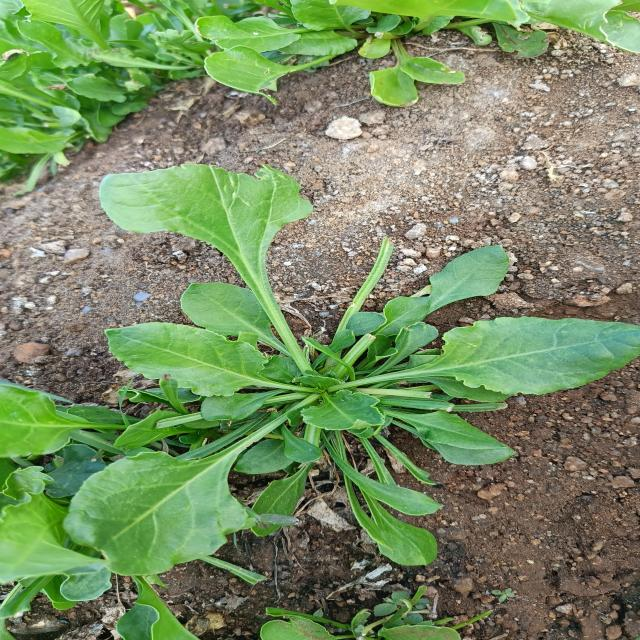leaves: (81, 166, 326, 371), (64, 404, 313, 576), (419, 313, 640, 419), (369, 238, 549, 348), (89, 319, 301, 402), (1, 466, 116, 591), (173, 282, 321, 372), (306, 443, 467, 523), (318, 494, 454, 577), (369, 403, 511, 482), (232, 454, 323, 531), (218, 415, 332, 468), (297, 387, 394, 438), (198, 393, 285, 424)
